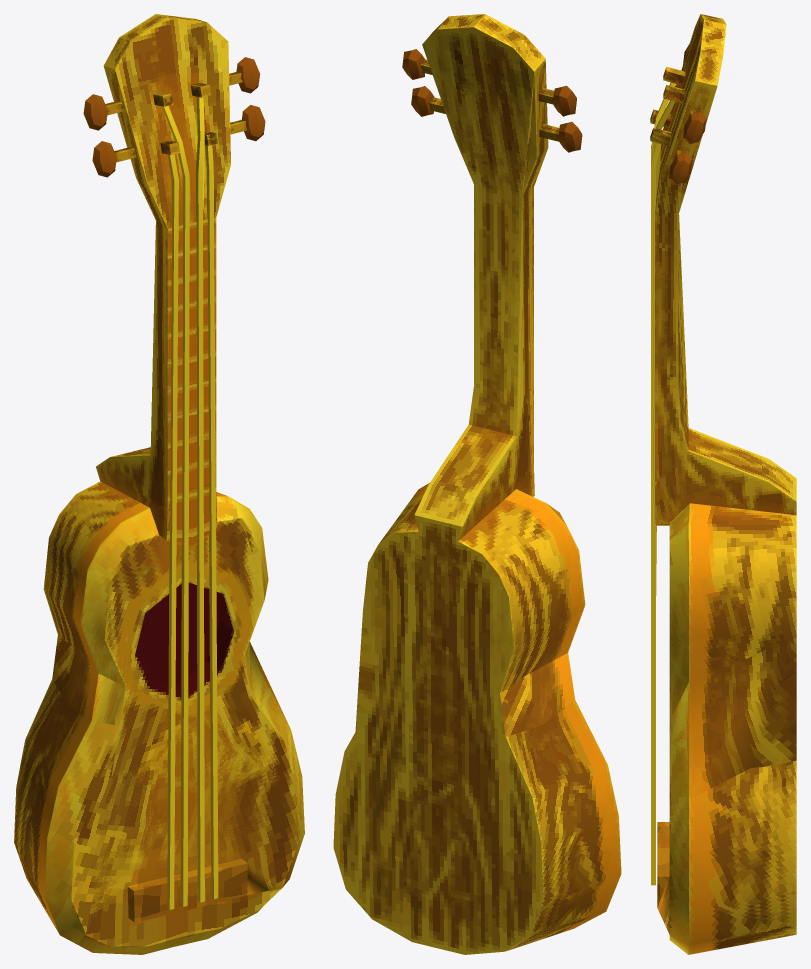
File: item_ukulele_gold.glb
3 views of the same model, side by side, from view 1: azimuth 30°, elevation 25°; view 2: azimuth 150°, elevation 25°; view 3: azimuth 270°, elevation 25° (orthographic).
Parts seen in each view (by area): view 1: ukulele; view 2: ukulele; view 3: ukulele.
Boxes of the visible parts, x1=… form: ukulele: x1=14, y1=14, x2=304, y2=954; ukulele: x1=333, y1=14, x2=621, y2=954; ukulele: x1=650, y1=14, x2=796, y2=954.
Bounding box in the file's own units: 0.2388 × 0.8095 × 0.1182.
1 material, 1 textured.
